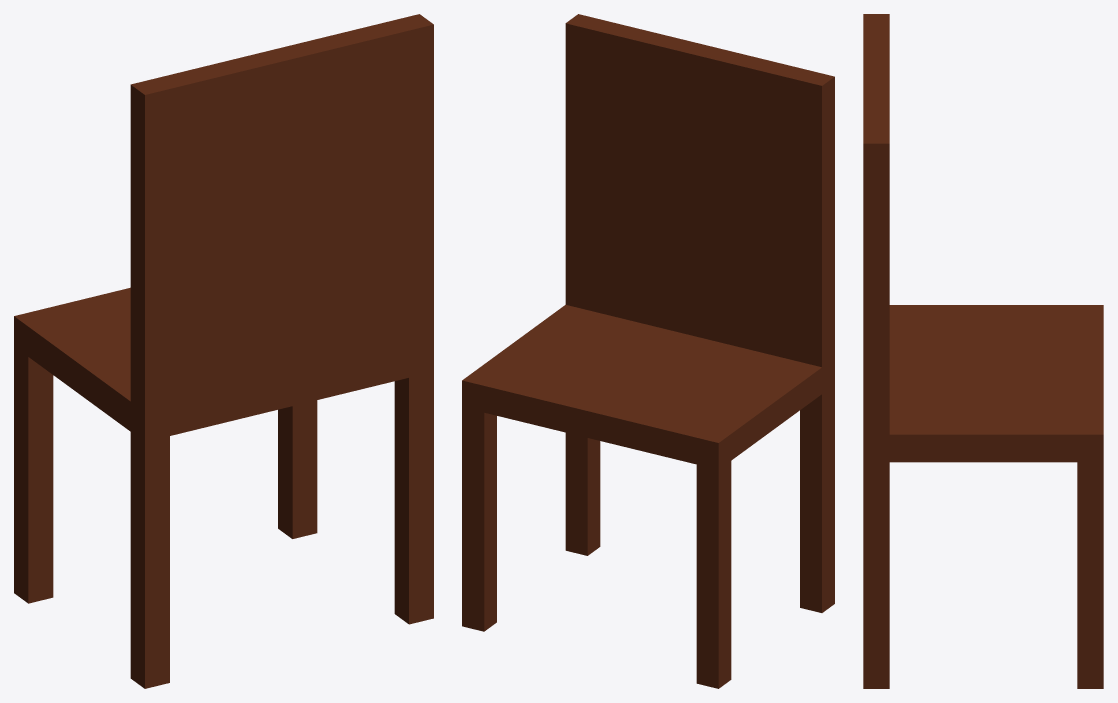
File: chair.fbx
3 views of the same model, side by side, from view 1: azimuth 30°, elevation 25°; view 2: azimuth 150°, elevation 25°; view 3: azimuth 270°, elevation 25° (orthographic). The views are drawn at different scales.
Parts seen in each view (by area): view 1: Cube; view 2: Cube; view 3: Cube.
Part boxes in pixels (bbox=[...]): Cube: bbox=[14, 14, 433, 688]; Cube: bbox=[462, 14, 834, 688]; Cube: bbox=[863, 14, 1103, 688].
Bounding box in the file's own units: 232 × 456 × 182.
